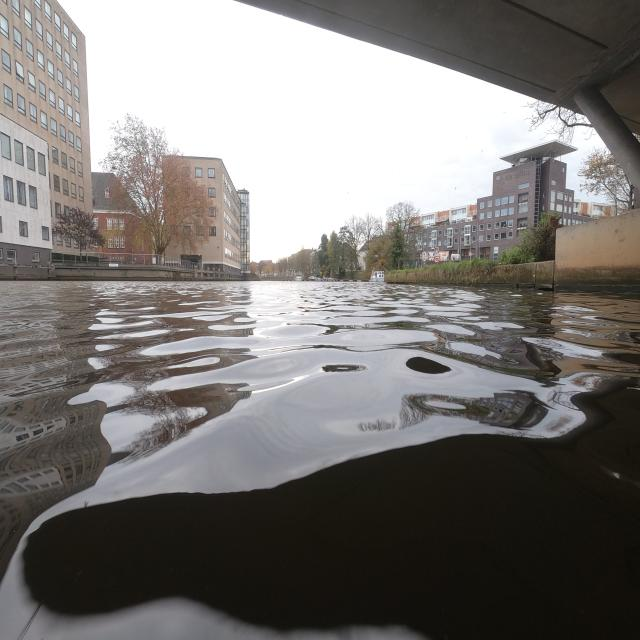boat: (370, 270, 384, 282)
sky: (63, 0, 548, 260)
wall: (383, 209, 640, 292), (0, 265, 207, 282)
water: (0, 281, 640, 640)
